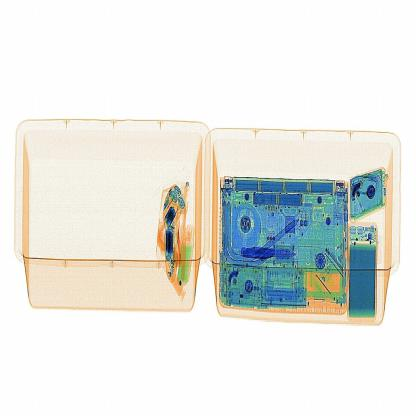knife: (238, 243, 280, 265)
